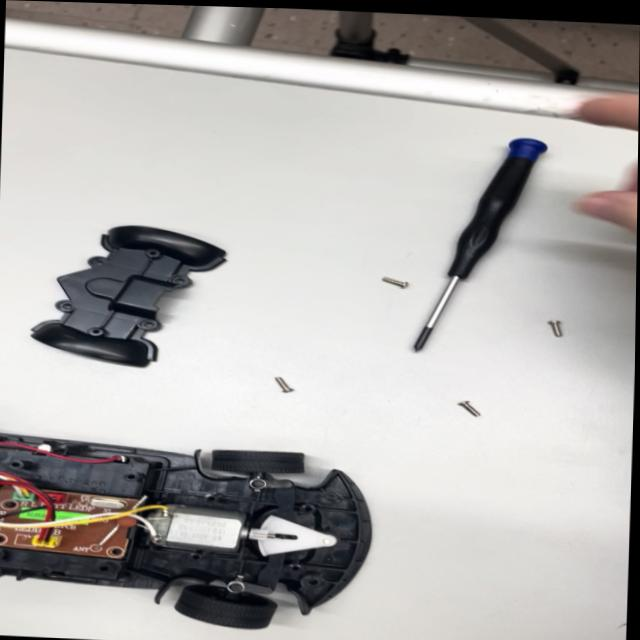Chassis: (0, 428, 371, 636)
motor: (124, 491, 288, 557)
motor_cover: (36, 211, 232, 375)
screw: (364, 264, 416, 293), (446, 393, 493, 422), (266, 368, 302, 399), (536, 315, 569, 342)
screw_driver: (407, 124, 543, 360)
wheel: (173, 582, 283, 632), (204, 430, 312, 480)
